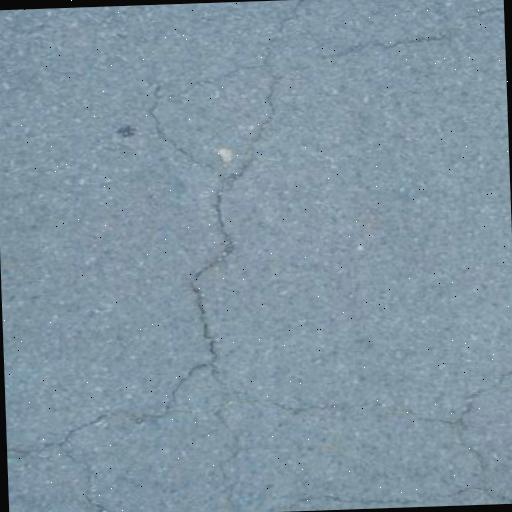spalling: (15, 4, 324, 465), (135, 43, 262, 184)
